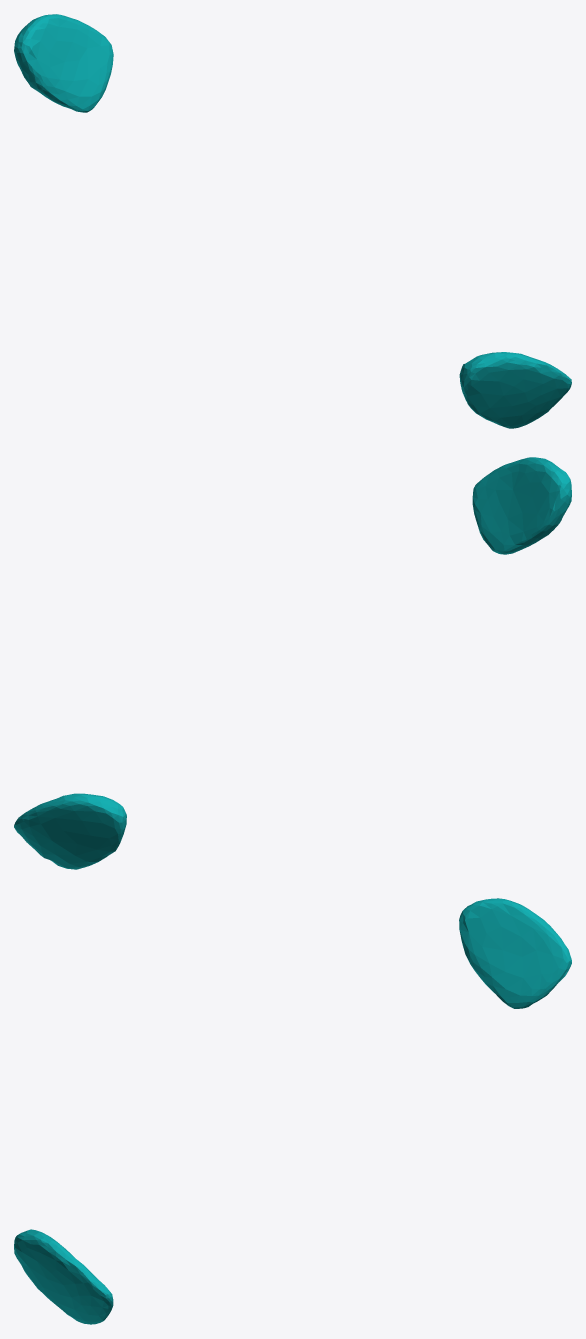
3 renders of one model, top to bottom at view 1: azimuth 30°, elevation 25°; view 2: azimuth 150°, elevation 25°; view 3: azimuth 330°, elevation 25°, orthographic.
Parts seen in each view (by area): view 1: 954.obj; view 2: 954.obj; view 3: 954.obj.
Part boxes in pixels (x1,y1,x2,y2): 954.obj: (14, 14, 571, 428); 954.obj: (14, 457, 571, 869); 954.obj: (14, 898, 571, 1324).
Bounding box in the file's own units: 1096 × 932 × 8676.
